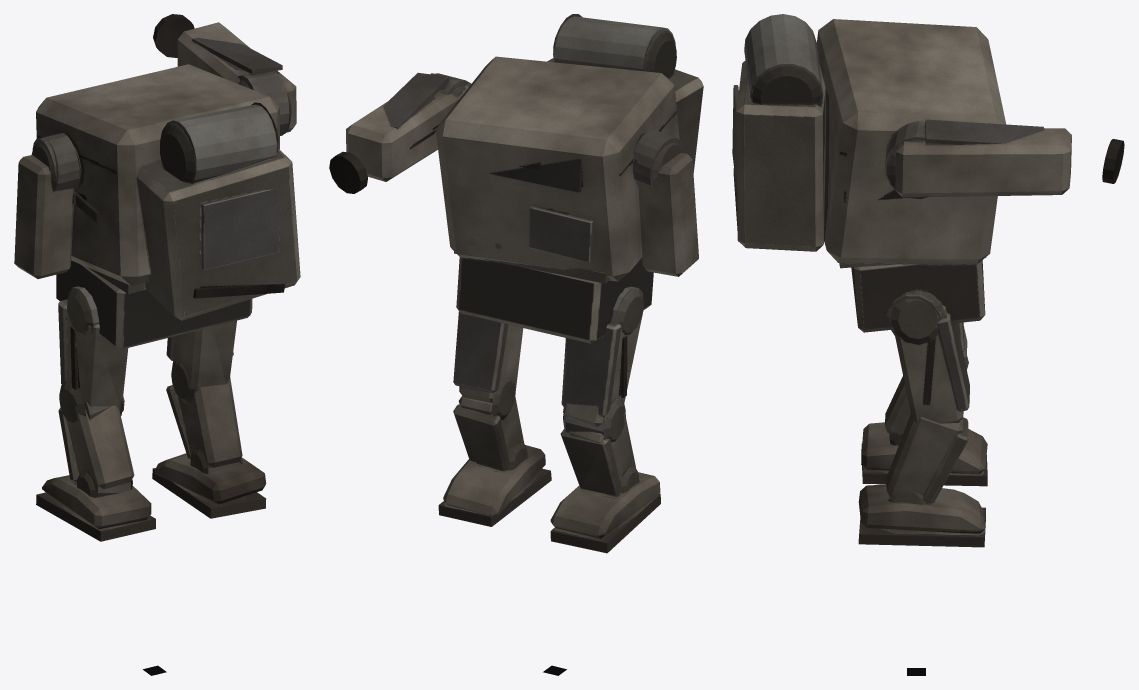
The model's file is ord_artisan_wreck.fbx.
The picture shows the model from 3 angles, left to right: view 1: azimuth 30°, elevation 25°; view 2: azimuth 150°, elevation 25°; view 3: azimuth 270°, elevation 25°; orthographic projection. The views are drawn at different scales.
Visible parts, largest first — view 1: base_bar, thighL_bar, nano_bar, shinL_bar, footR_bar, footL_bar, shinR_bar, thighR_bar; view 2: base_bar, nano_bar, thighL_bar, thighR_bar, footL_bar, footR_bar, shinL_bar, shinR_bar; view 3: base_bar, nano_bar, thighR_bar, footR_bar, shinR_bar, footL_bar, shinL_bar.
Boxes of the visible parts, x1,y1,x2,y2 form: base_bar: (14, 64, 300, 349); thighL_bar: (58, 286, 128, 423); nano_bar: (153, 14, 296, 135); shinL_bar: (58, 405, 134, 497); footR_bar: (152, 453, 266, 518); footL_bar: (36, 475, 155, 541); shinR_bar: (166, 377, 242, 473); thighR_bar: (166, 320, 236, 403); base_bar: (435, 14, 703, 343); nano_bar: (329, 72, 471, 193); thighL_bar: (561, 286, 643, 442); thighR_bar: (453, 311, 523, 419); footL_bar: (550, 472, 660, 553); footR_bar: (438, 445, 551, 526); shinL_bar: (560, 412, 639, 495); shinR_bar: (453, 396, 527, 471); base_bar: (732, 14, 1005, 332); nano_bar: (885, 119, 1124, 198); thighR_bar: (887, 290, 969, 423); footR_bar: (858, 484, 985, 547); shinR_bar: (886, 414, 968, 504); footL_bar: (861, 422, 987, 486); shinL_bar: (885, 376, 910, 445).
Size of the model in its own units: 350 by 737 by 410.
2 materials, 2 textured.
